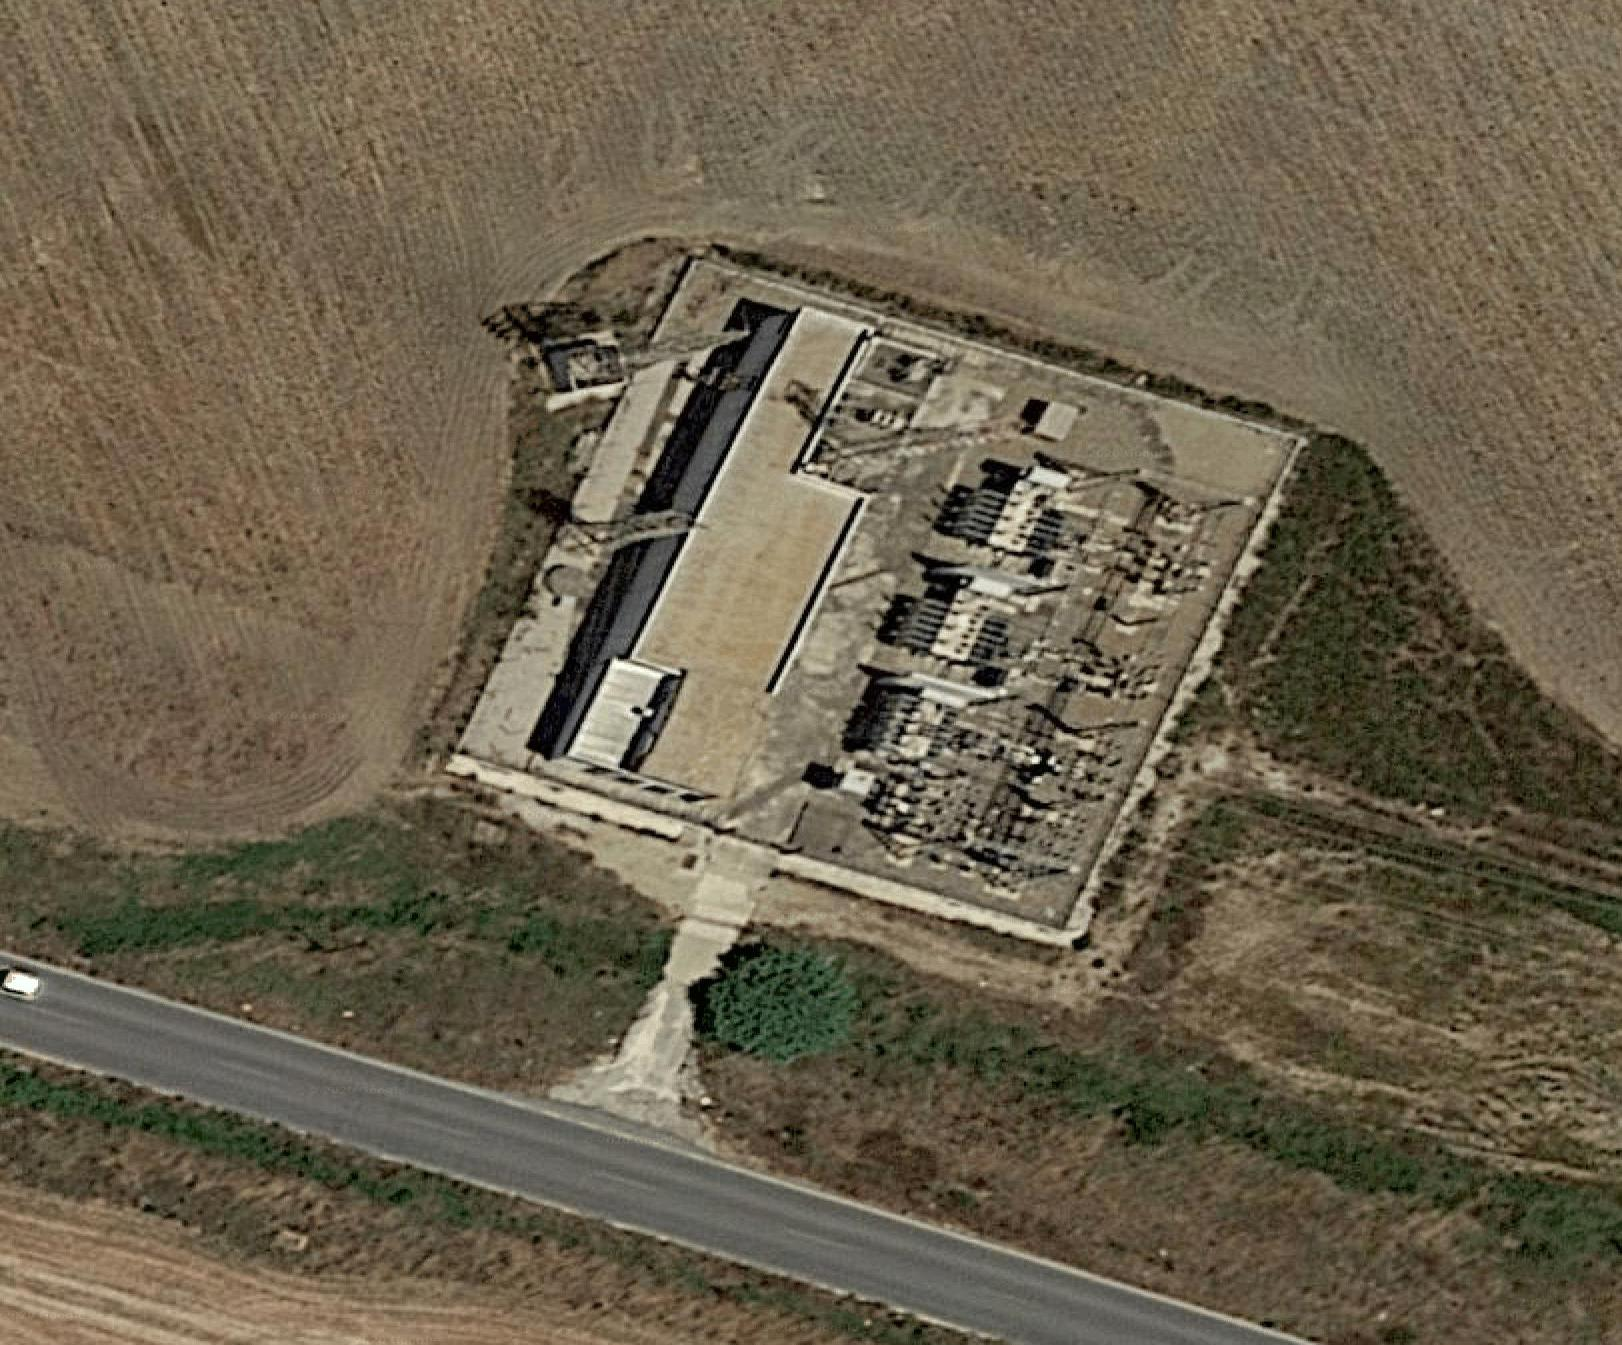substation: (796, 389, 1266, 904)
